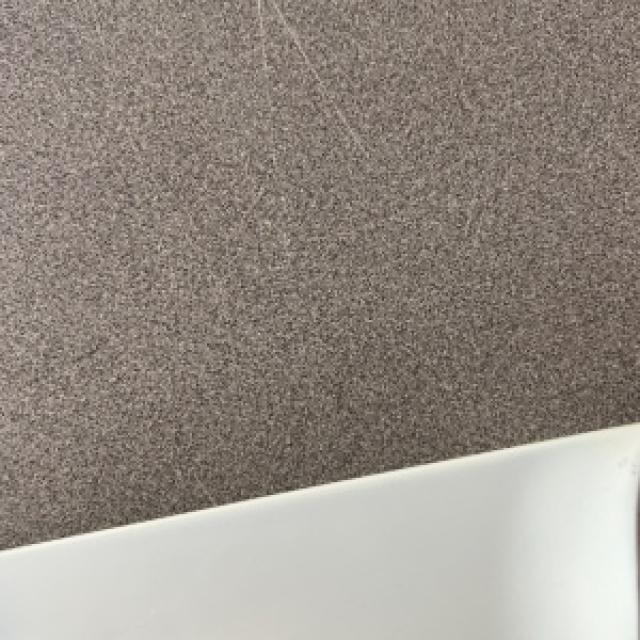healthy: (0, 422, 638, 638)
